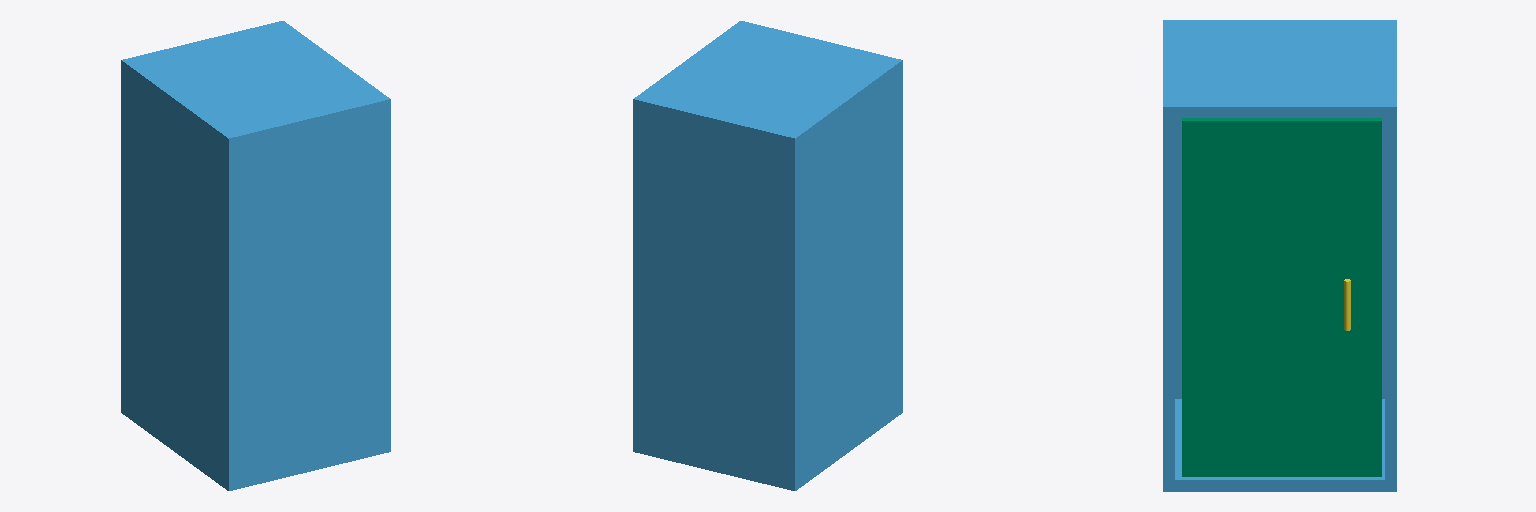
URDF robot description (my_cabinet):
<?xml version="1.0" ?>
<robot name="my_cabinet">
	<link name="world"/>
	<joint name="virtual_joint" type="fixed">
		<parent link="world"/>
		<child link="base_cabinet_link"/>
		<origin xyz="0.0 0.0 0.0" rpy="0.0 0.0 0.0"/>
	</joint>
	<link name="base_cabinet_link">
		<visual>
			<origin xyz="0.0 -0.0025 -0.30293150722683493" rpy="0.0 0.0 0.0"/>
			<geometry>
				<box size="0.3 0.3443254636900642 0.018"/>
			</geometry>
		</visual>
		<collision name="base_cabinet_link_collision_0">
			<origin xyz="0.0 -0.0025 -0.30293150722683493" rpy="0.0 0.0 0.0"/>
			<geometry>
				<box size="0.3 0.3443254636900642 0.018"/>
			</geometry>
		</collision>
		<visual>
			<origin xyz="0.0 0.16066273184503213 0.0" rpy="0.0 0.0 0.0"/>
			<geometry>
				<box size="0.3 0.018 0.6238630144536699"/>
			</geometry>
		</visual>
		<collision name="base_cabinet_link_collision_1">
			<origin xyz="0.0 0.16066273184503213 0.0" rpy="0.0 0.0 0.0"/>
			<geometry>
				<box size="0.3 0.018 0.6238630144536699"/>
			</geometry>
		</collision>
		<visual>
			<origin xyz="0.0 -0.16566273184503214 0.0" rpy="0.0 0.0 0.0"/>
			<geometry>
				<box size="0.3 0.018 0.6238630144536699"/>
			</geometry>
		</visual>
		<collision name="base_cabinet_link_collision_2">
			<origin xyz="0.0 -0.16566273184503214 0.0" rpy="0.0 0.0 0.0"/>
			<geometry>
				<box size="0.3 0.018 0.6238630144536699"/>
			</geometry>
		</collision>
		<visual>
			<origin xyz="0.0 -0.0025 0.30293150722683493" rpy="0.0 0.0 0.0"/>
			<geometry>
				<box size="0.3 0.3443254636900642 0.018"/>
			</geometry>
		</visual>
		<collision name="base_cabinet_link_collision_3">
			<origin xyz="0.0 -0.0025 0.30293150722683493" rpy="0.0 0.0 0.0"/>
			<geometry>
				<box size="0.3 0.3443254636900642 0.018"/>
			</geometry>
		</collision>
		<visual>
			<origin xyz="-0.141 -0.0025 0.0" rpy="0.0 0.0 0.0"/>
			<geometry>
				<box size="0.018 0.3443254636900642 0.6238630144536699"/>
			</geometry>
		</visual>
		<collision name="base_cabinet_link_collision_4">
			<origin xyz="-0.141 -0.0025 0.0" rpy="0.0 0.0 0.0"/>
			<geometry>
				<box size="0.018 0.3443254636900642 0.6238630144536699"/>
			</geometry>
		</collision>
		<inertial>
			<mass value="0.200000"/>
			<inertia ixx="0.008463" ixy="0.0" ixz="0.0" iyy="0.007987" iyz="0.0" izz="0.003476"/>
		</inertial>
	</link>
	<link name="door_link">
		<visual>
			<origin xyz="0.0 -0.14666273184503212 0.0"/>
			<geometry>
				<box size="0.018 0.29332546369006424 0.5778630144536698"/>
			</geometry>
		</visual>
		<collision name="door_link_collision">
			<origin xyz="0.0 -0.14666273184503212 0.0"/>
			<geometry>
				<box size="0.018 0.29332546369006424 0.5778630144536698"/>
			</geometry>
		</collision>
		<inertial>
			<mass value="0.200000"/>
			<inertia ixx="0.006999" ixy="0.0" ixz="0.0" iyy="0.005571" iyz="0.0" izz="0.001439"/>
		</inertial>
	</link>
	<joint name="door_joint" type="revolute">
		<origin xyz="0.141 -0.14666273184503212 0.0" rpy="0.000000 -0.000000 3.141593"/>
		<axis xyz="0 0 1"/>
		<parent link="base_cabinet_link"/>
		<child link="door_link"/>
		<limit effort="50" lower="-1.658062789394613" upper="0" velocity="10"/>
		<dynamics friction="3.5" damping="3.5"/>
	</joint>
	<link name="handle_link">
		<visual>
			<origin xyz="0.0 0.0 0.0" rpy="0.0 0.0 0.0"/>
			<geometry>
				<cylinder length="0.08" radius="0.005"/>
			</geometry>
		</visual>
		<collision name="handle_link_collision_0">
			<origin xyz="0.0 0.0 0.0" rpy="0.0 0.0 0.0"/>
			<geometry>
				<cylinder length="0.08" radius="0.005"/>
			</geometry>
		</collision>
		<visual>
			<origin xyz="-0.01 0.0 0.02" rpy="0.0 1.5707963267948966 0.0"/>
			<geometry>
				<cylinder length="0.02" radius="0.003"/>
			</geometry>
		</visual>
		<collision name="handle_link_collision_1">
			<origin xyz="-0.01 0.0 0.02" rpy="0.0 1.5707963267948966 0.0"/>
			<geometry>
				<cylinder length="0.01" radius="0.003"/>
			</geometry>
		</collision>
		<visual>
			<origin xyz="-0.01 0.0 -0.02" rpy="0.0 1.5707963267948966 0.0"/>
			<geometry>
				<cylinder length="0.02" radius="0.003"/>
			</geometry>
		</visual>
		<collision name="handle_link_collision_2">
			<origin xyz="-0.01 0.0 -0.02" rpy="0.0 1.5707963267948966 0.0"/>
			<geometry>
				<cylinder length="0.02" radius="0.003"/>
			</geometry>
		</collision>
		<inertial>
			<mass value="0.050000"/>
			<inertia ixx="0.000027" ixy="0.0" ixz="0.0" iyy="0.000029" iyz="0.0" izz="0.000003"/>
		</inertial>
	</link>
	<joint name="handle_joint" type="fixed">
		<origin xyz="-0.028999999999999998 -0.24332546369006425 0.0" rpy="0.000000 -0.000000 3.141593"/>
		<parent link="door_link"/>
		<child link="handle_link"/>
	</joint>
	<gazebo reference="base_cabinet_link">
		<sensor name="main_sensor" type="contact">
			<selfCollide>true</selfCollide>
			<alwaysOn>true</alwaysOn>
			<updateRate>5.0</updateRate>
			<material>Gazebo/Red</material>
			<contact>
				<collision>base_cabinet_link_collision_0_collision</collision>
				<collision>base_cabinet_link_collision_1_collision</collision>
				<collision>base_cabinet_link_collision_2_collision</collision>
				<collision>base_cabinet_link_collision_3_collision</collision>
				<collision>base_cabinet_link_collision_4_collision</collision>
			</contact>
			<plugin name="gazebo_ros_bumper_controller" filename="libgazebo_ros_bumper.so">
				<bumperTopicName>/contact</bumperTopicName>
				<frameName>world</frameName>
			</plugin>
		</sensor>
	</gazebo>
	<gazebo reference="door_link">
		<sensor name="main_sensor" type="contact">
			<selfCollide>true</selfCollide>
			<alwaysOn>true</alwaysOn>
			<updateRate>5.0</updateRate>
			<material>Gazebo/Red</material>
			<contact>
				<collision>door_link_collision_collision</collision>
			</contact>
			<plugin name="gazebo_ros_bumper_controller" filename="libgazebo_ros_bumper.so">
				<bumperTopicName>/contact_door</bumperTopicName>
				<frameName>contact_door</frameName>
			</plugin>
		</sensor>
	</gazebo>
	<gazebo reference="door_link">
		<mu>3.0</mu>
		<mu2>3.0</mu2>
		<kp>10000000</kp>
		<kd>100</kd>
	</gazebo>
</robot>

--- Facts derived from the render (not from the file) ---
Views: 3 orthographic renders of the robot side by side, from view 1: azimuth 30°, elevation 25°; view 2: azimuth 150°, elevation 25°; view 3: azimuth 270°, elevation 25°.
Model my_cabinet with 4 links and 3 joints (1 revolute, 2 fixed), rooted at world, posed all joints at 0.
Links seen in each view (by area): view 1: base_cabinet_link; view 2: base_cabinet_link; view 3: door_link, base_cabinet_link.
Boxes of the visible links, bbox=[...] form: base_cabinet_link: bbox=[121, 21, 390, 490]; base_cabinet_link: bbox=[633, 21, 902, 490]; door_link: bbox=[1182, 118, 1381, 476]; base_cabinet_link: bbox=[1163, 20, 1396, 491].
Bounding box of the posed robot: 0.325 × 0.3443 × 0.6239 m (x, y, z).
Geometry: primitives only (box / cylinder / sphere), no mesh files.
